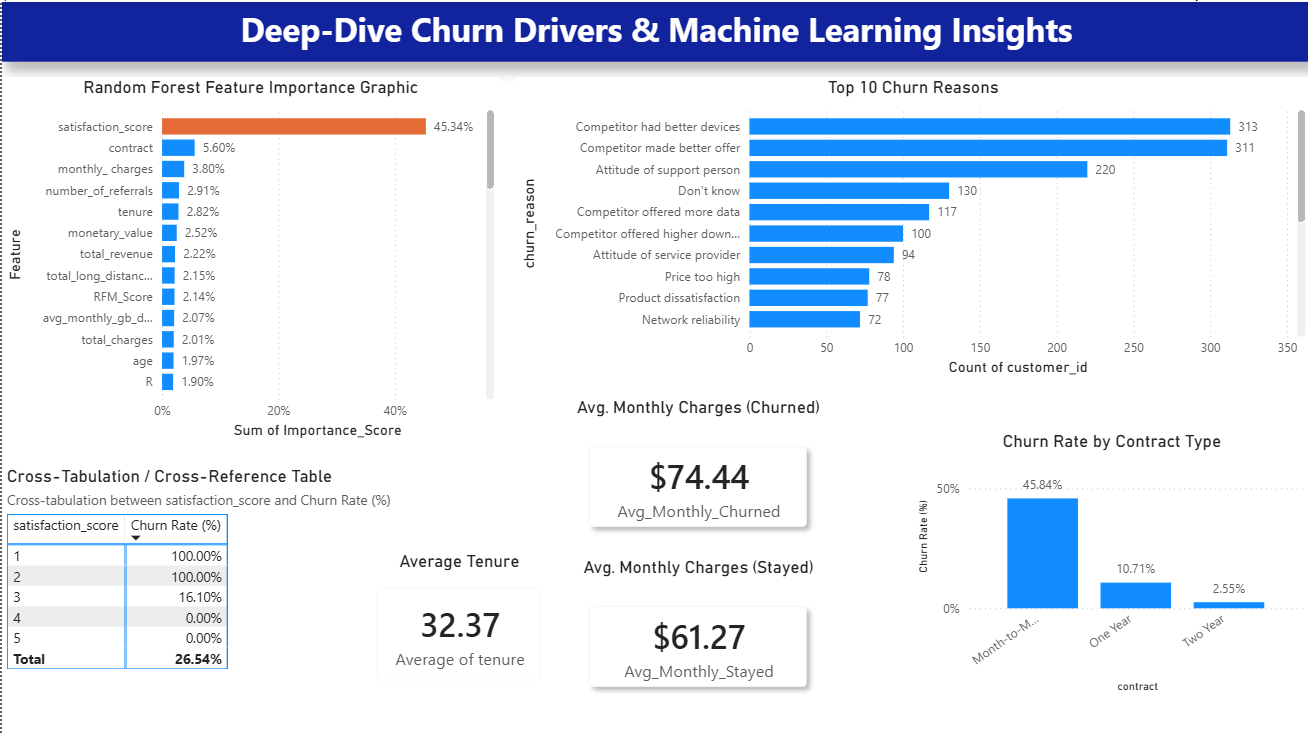

The page's visual inventory and layout, read from the dashboard file:
{"tool":"powerbi","page":{"name":"Deep-Dive Churn Drivers","canvas":[1280,720],"ordinal":1},"visuals":[{"type":"textbox","box":[0,0,1280.3,58.7],"z":0},{"type":"barChart","title":"Random Forest Feature Importance Graphic","fields":{"Category":["rf_feature_importance.Feature"],"Y":["Sum(rf_feature_importance.Importance_Score)"]},"box":[0,73.4,486.7,358.3],"z":1000},{"type":"clusteredBarChart","title":"Top 10 Churn Reasons","fields":{"Category":["telco_churn_cleaned_master.churn_reason"],"Y":["CountNonNull(telco_churn_cleaned_master.customer_id)"]},"box":[502.6,73.4,777.7,297.1],"z":2000},{"type":"pivotTable","title":"Cross-Tabulation / Cross-Reference Table","fields":{"Values":["telco_churn_cleaned_master.Churn Rate (%)"],"Rows":["telco_churn_cleaned_master.satisfaction_score"]},"box":[0,453.7,402.3,227.4],"z":3000},{"type":"columnChart","title":"Churn Rate by Contract Type","fields":{"Category":["telco_churn_cleaned_master.contract"],"Y":["telco_churn_cleaned_master.Churn Rate (%)"]},"box":[845,419.4,435.3,261.7],"z":3002},{"type":"cardVisual","title":"Avg. Monthly Charges (Churned)","fields":{"Data":["telco_churn_with_rfm.Avg_Monthly_Churned"]},"box":[545.4,386.4,271.5,156.5],"z":3003},{"type":"cardVisual","title":"Avg. Monthly Charges (Stayed)","fields":{"Data":["telco_churn_with_rfm.Avg_Monthly_Stayed"]},"box":[545.4,542.9,271.5,156.5],"z":3004},{"type":"cardVisual","title":"Average Tenure","fields":{"Data":["Avg(telco_churn_with_rfm.tenure)"]},"box":[349.7,536.8,195.7,144.3],"z":3005}]}

Visuals, with their boxes in screenshot pixels (x1, y1, x2, y2), scaled from the page's 1280x720 canvas onto the 1308x733 screenshot:
textbox: select_region(0, 0, 1307, 60)
"Random Forest Feature Importance Graphic" barChart: select_region(0, 75, 497, 439)
"Top 10 Churn Reasons" clusteredBarChart: select_region(514, 75, 1307, 377)
"Cross-Tabulation / Cross-Reference Table" pivotTable: select_region(0, 462, 411, 693)
"Churn Rate by Contract Type" columnChart: select_region(863, 427, 1307, 693)
"Avg. Monthly Charges (Churned)" cardVisual: select_region(557, 393, 835, 553)
"Avg. Monthly Charges (Stayed)" cardVisual: select_region(557, 553, 835, 712)
"Average Tenure" cardVisual: select_region(357, 546, 557, 693)
